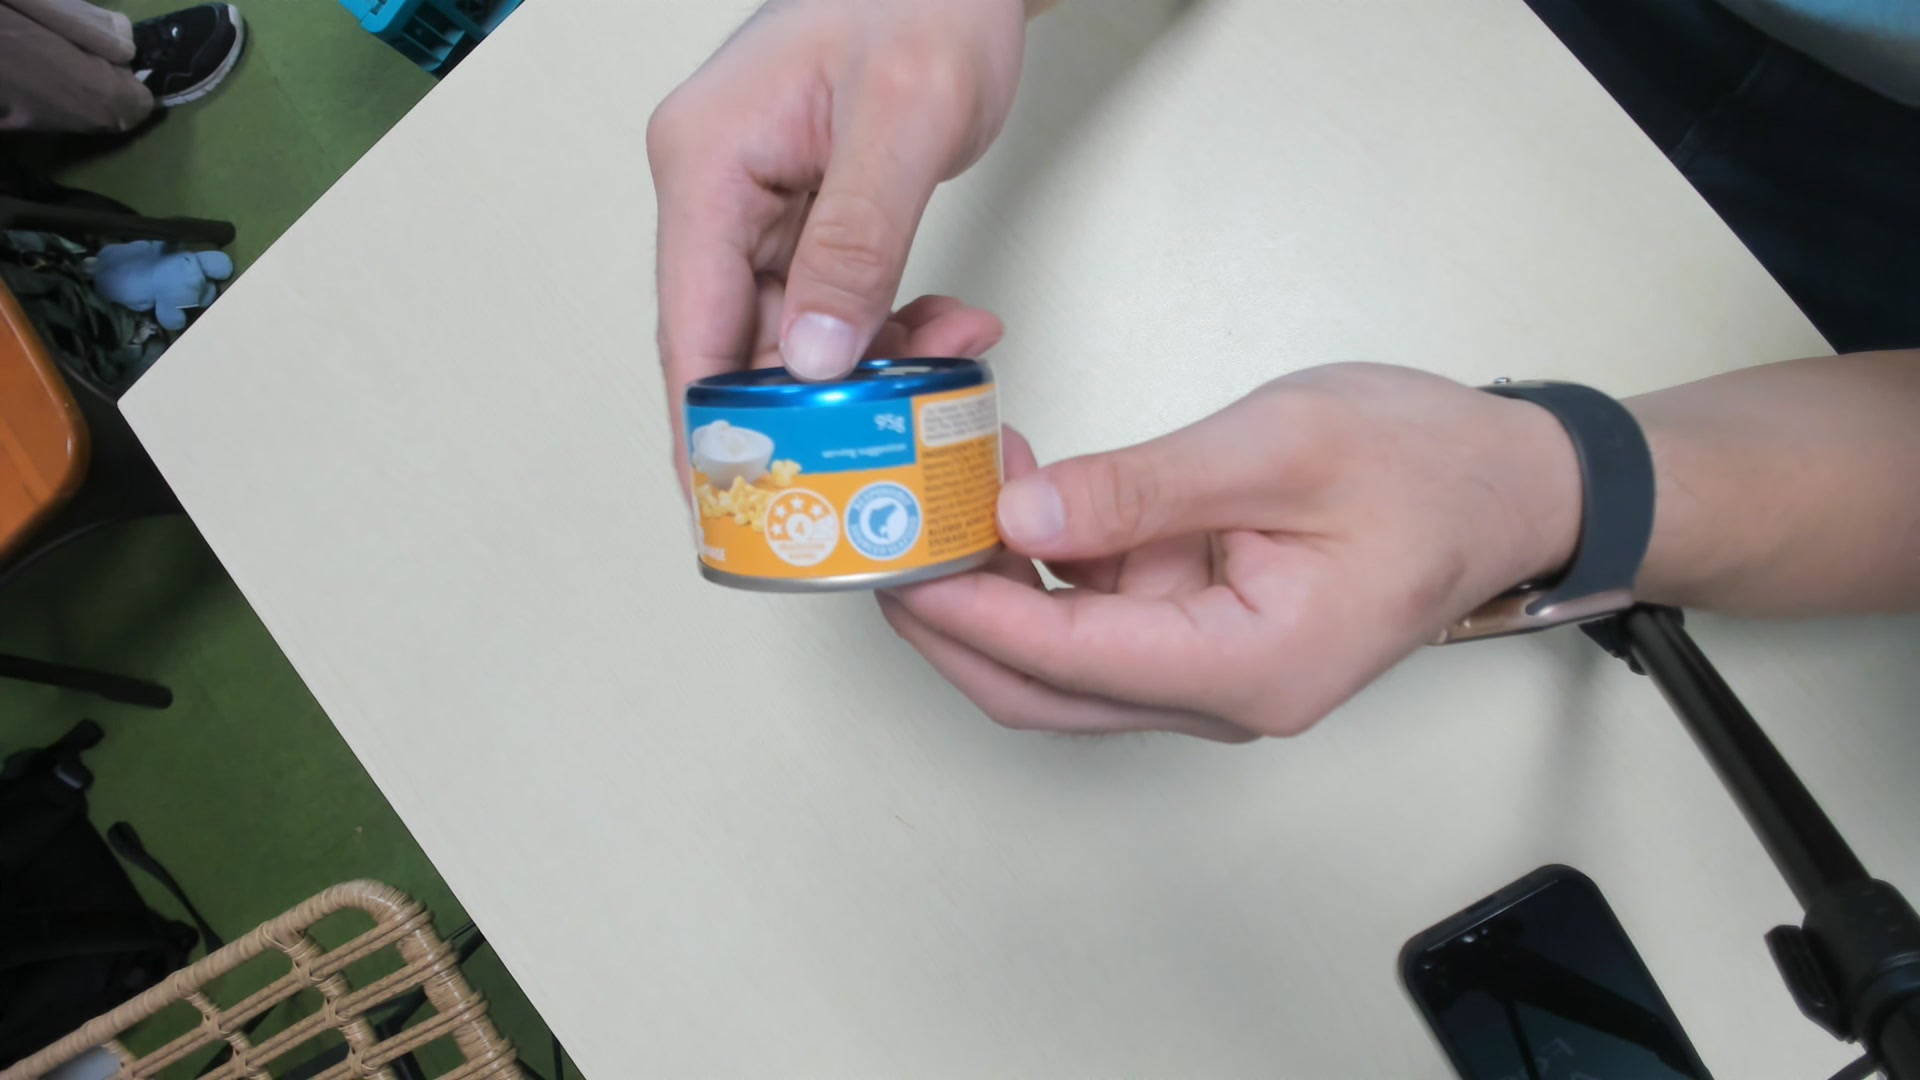OtherSauceDressing_0-99g_NonHalal_NonHealthy: (684, 360, 1004, 595)
